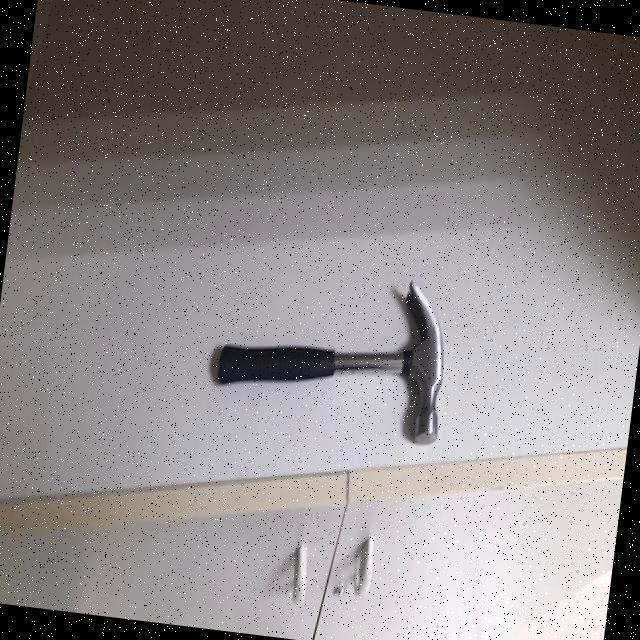hammer: (221, 280, 443, 444)
